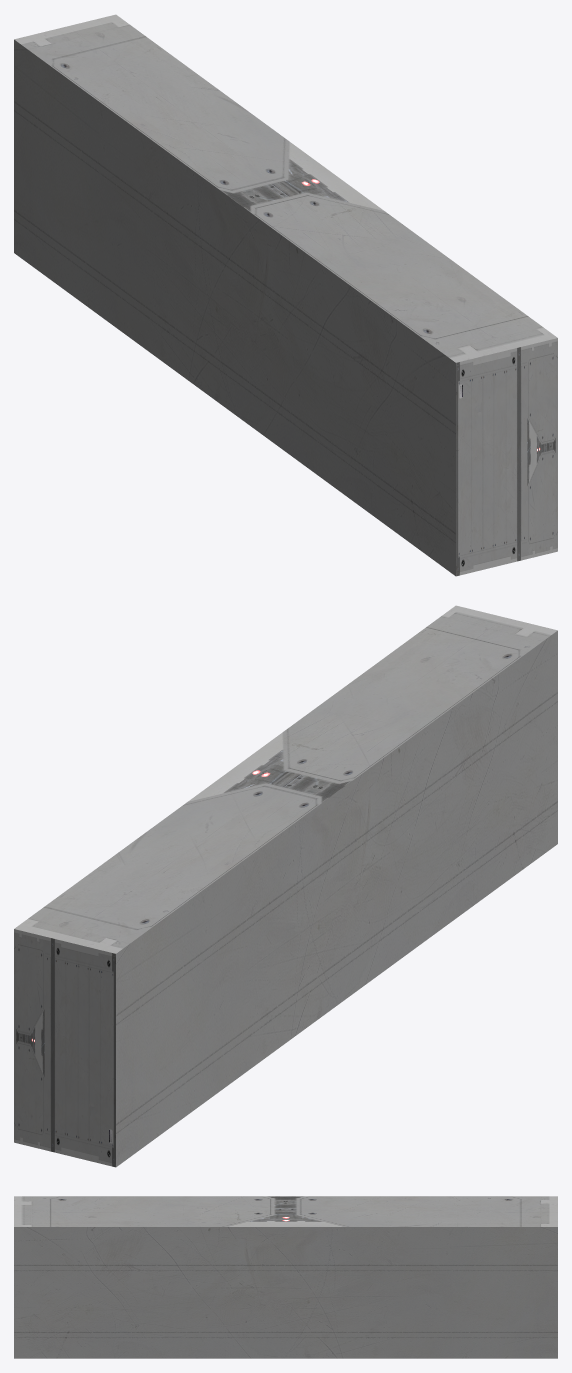
The model's file is SM_Wall_Small4.fbx.
3 views of the same model, one above another, from view 1: azimuth 30°, elevation 25°; view 2: azimuth 150°, elevation 25°; view 3: azimuth 270°, elevation 25° (orthographic). The views are drawn at different scales.
Visible parts, largest first — view 1: SM_Wall_Small4_LOD0; view 2: SM_Wall_Small4_LOD0; view 3: SM_Wall_Small4_LOD0.
Part boxes in pixels (box(x1,y1,x2,y2)): SM_Wall_Small4_LOD0: box(14, 14, 557, 576); SM_Wall_Small4_LOD0: box(14, 605, 557, 1167); SM_Wall_Small4_LOD0: box(14, 1196, 557, 1358).
Size of the model in its own units: 40 by 300 by 80.
